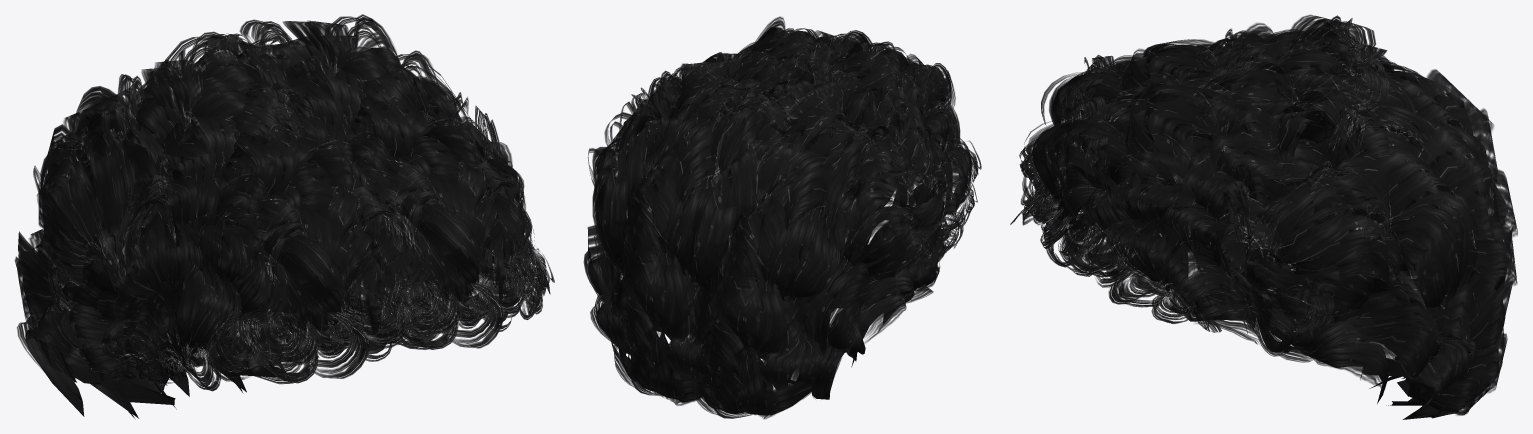
The model's file is Oval_Curly_01.glb.
3 renders of one model, left to right at view 1: azimuth 30°, elevation 25°; view 2: azimuth 150°, elevation 25°; view 3: azimuth 270°, elevation 25°, orthographic. The views are drawn at different scales.
Parts seen in each view (by area): view 1: oval curly 01 french crop; view 2: oval curly 01 french crop; view 3: oval curly 01 french crop.
Part boxes in pixels (box(x1,y1,x2,y2)): oval curly 01 french crop: box(15, 14, 554, 419); oval curly 01 french crop: box(583, 16, 981, 419); oval curly 01 french crop: box(1010, 14, 1517, 419).
Bounding box in the file's own units: 0.1965 × 0.173 × 0.2314.
Materials: 1 (1 with a texture image).
